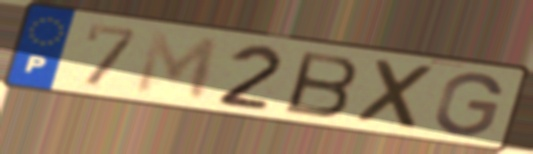2: (213, 42, 284, 114)
7: (80, 22, 140, 90)
B: (282, 48, 363, 120)
G: (430, 71, 507, 139)
M: (130, 29, 222, 104)
X: (353, 56, 442, 134)
